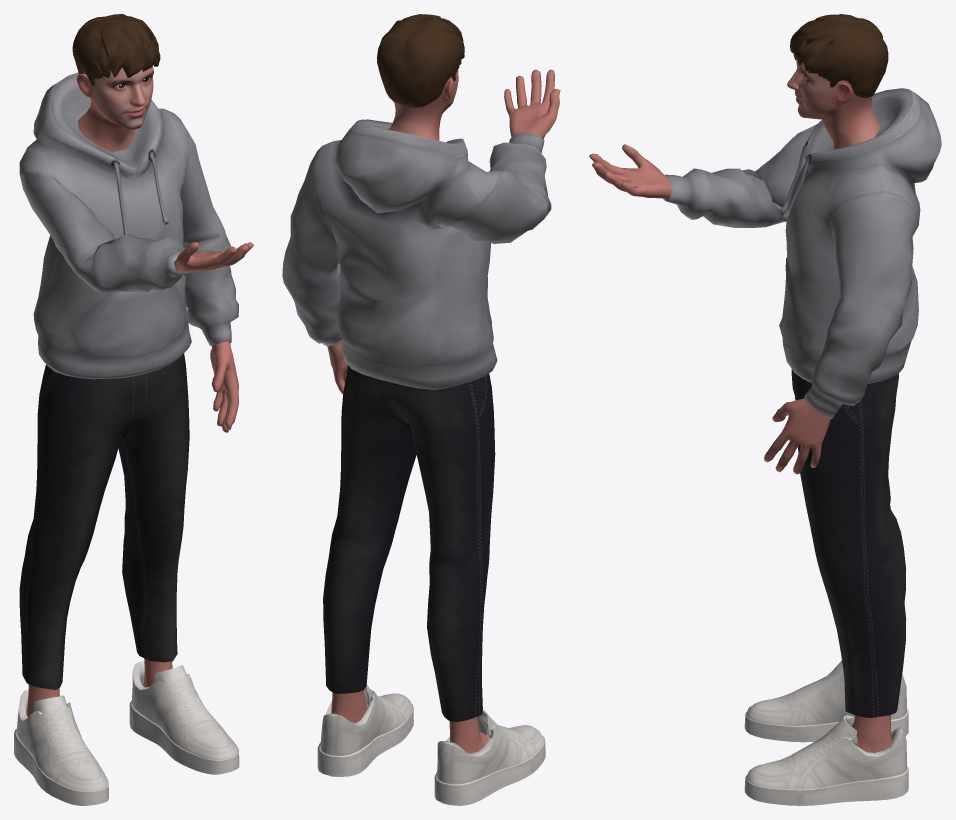
File: dantez.glb
The picture shows the model from 3 angles, left to right: view 1: azimuth 30°, elevation 25°; view 2: azimuth 150°, elevation 25°; view 3: azimuth 270°, elevation 25°; orthographic projection.
Parts seen in each view (by area): view 1: Wolf3D_Outfit_Top, Wolf3D_Outfit_Bottom, Wolf3D_Outfit_Footwear, Wolf3D_Head, Wolf3D_Hair, Wolf3D_Body; view 2: Wolf3D_Outfit_Top, Wolf3D_Outfit_Bottom, Wolf3D_Outfit_Footwear, Wolf3D_Hair, Wolf3D_Body, Wolf3D_Head; view 3: Wolf3D_Outfit_Top, Wolf3D_Outfit_Bottom, Wolf3D_Outfit_Footwear, Wolf3D_Body, Wolf3D_Hair, Wolf3D_Head.
Boxes of the visible parts, x1,y1,x2,y2 form: Wolf3D_Outfit_Top: (19,72,238,379); Wolf3D_Outfit_Bottom: (19,353,189,689); Wolf3D_Outfit_Footwear: (14,661,239,805); Wolf3D_Head: (76,66,153,152); Wolf3D_Hair: (72,14,160,86); Wolf3D_Body: (26,242,253,716); Wolf3D_Outfit_Top: (282,119,551,389); Wolf3D_Outfit_Bottom: (323,365,495,721); Wolf3D_Outfit_Footwear: (317,684,545,805); Wolf3D_Hair: (377,14,464,107); Wolf3D_Body: (327,69,560,753); Wolf3D_Head: (388,69,458,140); Wolf3D_Outfit_Top: (663,88,941,419); Wolf3D_Outfit_Bottom: (791,369,906,717); Wolf3D_Outfit_Footwear: (744,660,908,805); Wolf3D_Body: (589,144,891,752); Wolf3D_Hair: (790,14,888,98); Wolf3D_Head: (787,59,880,149).
Size of the model in its own units: 0.5553 by 1.85 by 0.7965.
8 materials, 8 textured.
